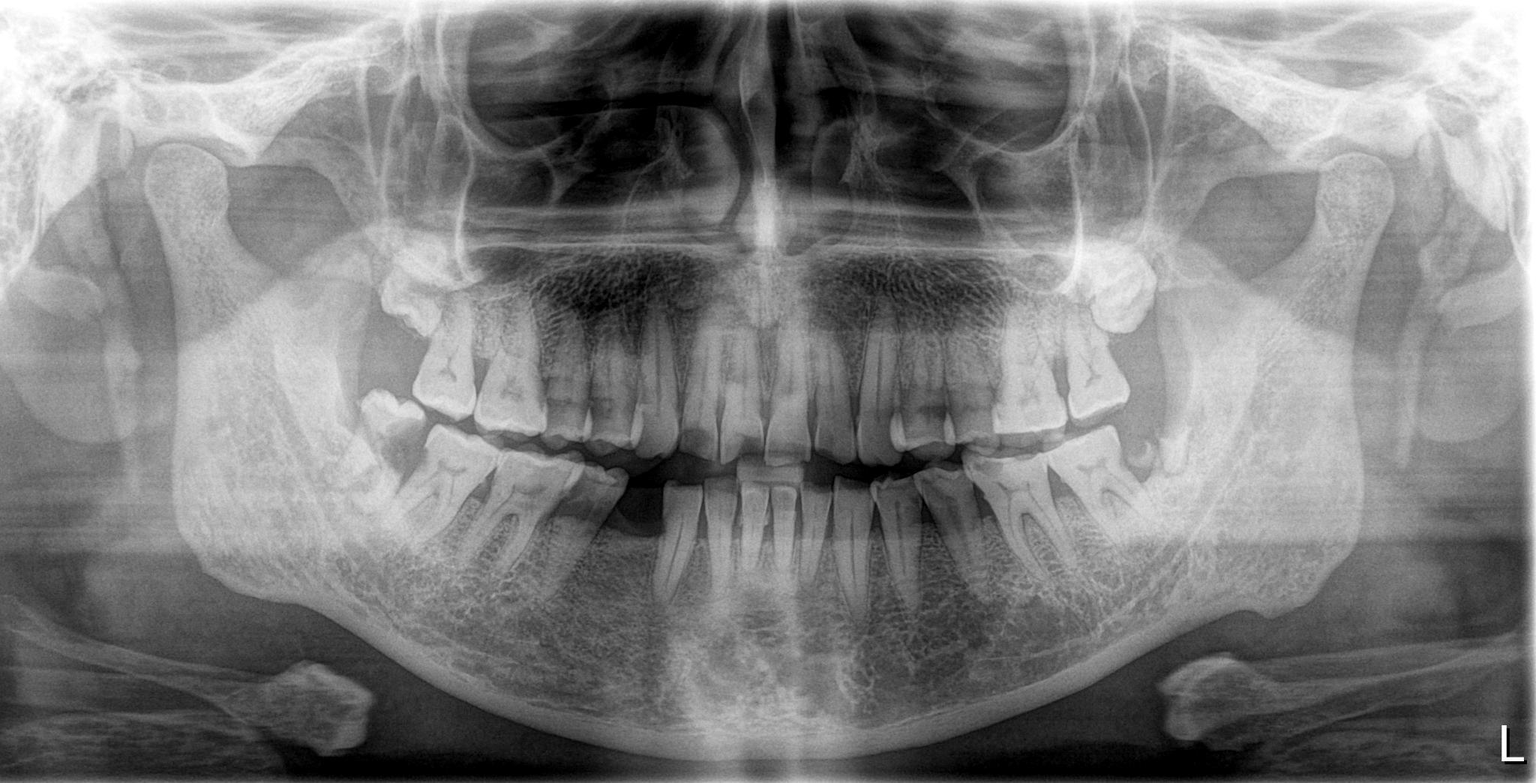Dental Caries: (379, 428, 430, 471)
Impacted Third Molar: (375, 232, 455, 321), (1076, 248, 1150, 339), (360, 397, 416, 499)
Missing Tooth: (611, 482, 674, 580)
Tooth Fracture: (1125, 424, 1199, 501)
